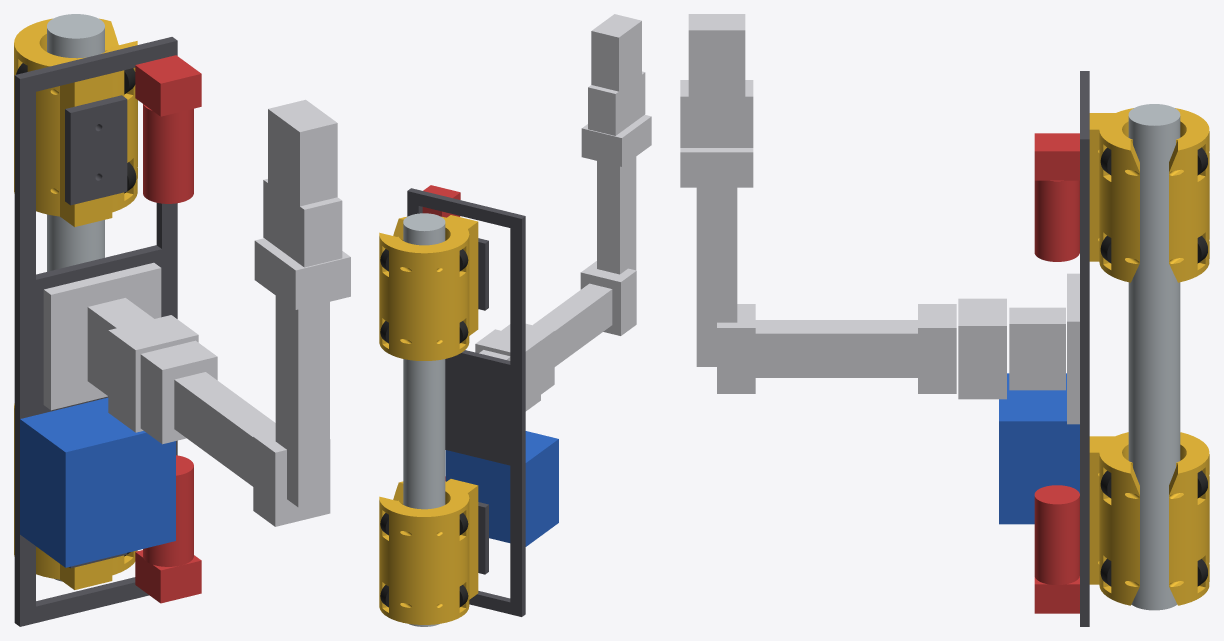
File: cart-assembly-v2.glb
The picture shows the model from 3 angles, left to right: view 1: azimuth 30°, elevation 25°; view 2: azimuth 150°, elevation 25°; view 3: azimuth 270°, elevation 25°; orthographic projection. The views are drawn at different scales.
Visible parts, largest first — view 1: so101_arm_envelope, base_plate, battery, drive_motors, hand_A_sleeve, track_pipe, hand_B_sleeve, hand_A_wheels; view 2: so101_arm_envelope, base_plate, hand_A_sleeve, hand_B_sleeve, track_pipe, battery, hand_A_wheels, hand_B_wheels, drive_motors; view 3: so101_arm_envelope, track_pipe, hand_A_sleeve, hand_B_sleeve, drive_motors, battery, base_plate, hand_A_wheels, hand_B_wheels.
Boxes of the visible parts, x1,y1,x2,y2 form: so101_arm_envelope: (43, 99, 350, 526); base_plate: (14, 37, 177, 626); battery: (20, 397, 175, 567); drive_motors: (135, 55, 201, 603); hand_A_sleeve: (14, 18, 137, 226); track_pipe: (47, 14, 104, 581); hand_B_sleeve: (14, 403, 137, 589); hand_A_wheels: (16, 63, 136, 193); so101_arm_envelope: (475, 14, 651, 411); base_plate: (407, 188, 525, 616); hand_A_sleeve: (379, 215, 478, 360); hand_B_sleeve: (379, 479, 478, 624); track_pipe: (403, 213, 445, 626); battery: (445, 431, 558, 546); hand_A_wheels: (380, 249, 468, 343); hand_B_wheels: (380, 513, 468, 607); drive_motors: (422, 185, 460, 480); so101_arm_envelope: (680, 14, 1079, 424); track_pipe: (1128, 104, 1180, 610); hand_A_sleeve: (1089, 108, 1209, 282); hand_B_sleeve: (1089, 432, 1209, 605); drive_motors: (1034, 133, 1079, 613); battery: (999, 373, 1079, 524); base_plate: (1080, 71, 1089, 626); hand_A_wheels: (1100, 147, 1207, 263); hand_B_wheels: (1100, 470, 1207, 586).
Size of the model in its own units: 100 by 389 by 326.
